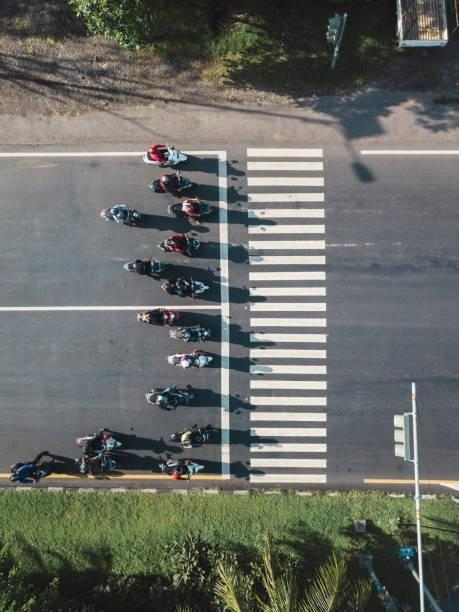Motorcycle: (165, 422, 236, 452), (141, 384, 203, 409), (153, 459, 212, 482), (159, 230, 204, 260), (167, 348, 226, 369), (169, 270, 210, 300), (140, 300, 184, 327), (168, 199, 216, 223), (174, 322, 226, 344), (144, 172, 194, 194), (120, 257, 166, 280), (144, 140, 180, 167), (74, 424, 120, 445), (12, 460, 48, 484), (101, 202, 136, 224), (82, 444, 104, 468)
